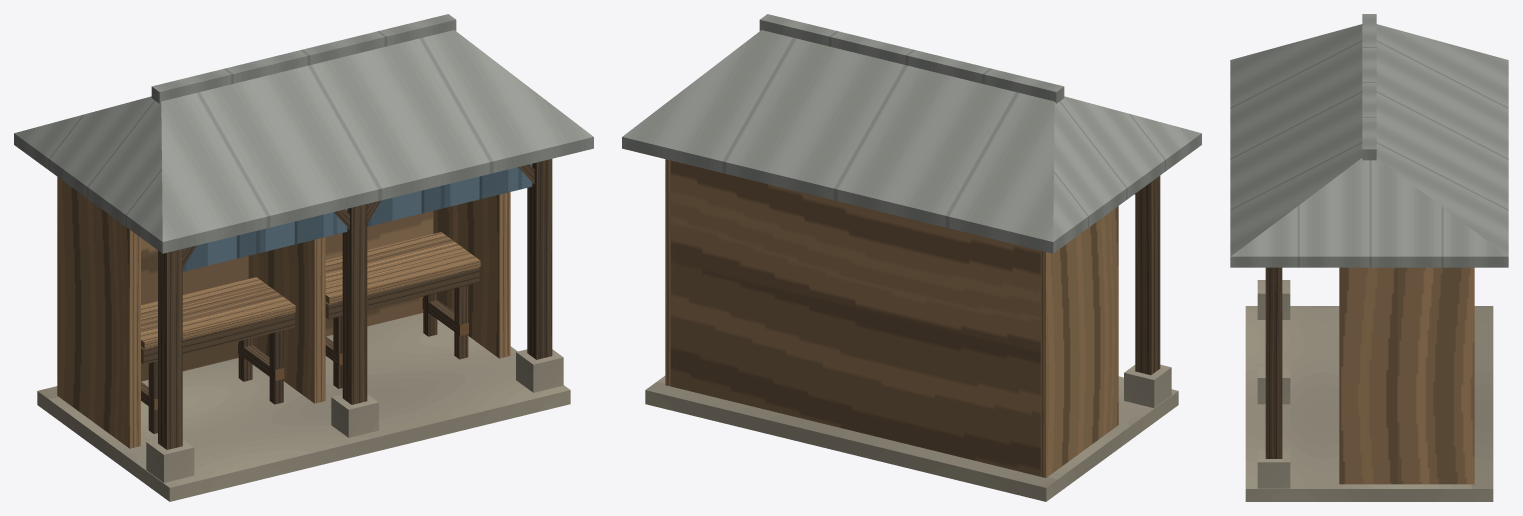
Rendered from st-peter-port.glb.
3 views of the same model, side by side, from view 1: azimuth 30°, elevation 25°; view 2: azimuth 150°, elevation 25°; view 3: azimuth 270°, elevation 25° (orthographic). The views are drawn at different scales.
Visible parts, largest first — view 1: st-peter-port; view 2: st-peter-port; view 3: st-peter-port.
Boxes of the visible parts, <box> form: st-peter-port: <box>14,14,593,501</box>; st-peter-port: <box>622,14,1201,501</box>; st-peter-port: <box>1230,14,1508,501</box>.
Size of the model in its own units: 3.21 by 2.5 by 1.92.
1 material, 1 textured.
